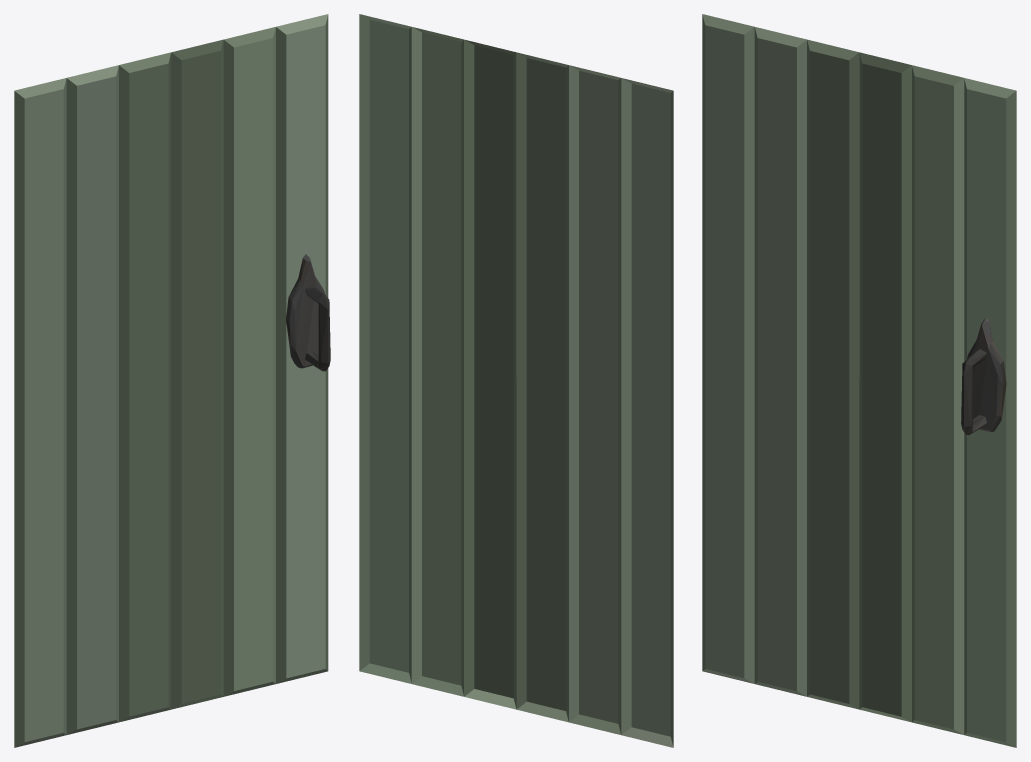
The model's file is Door_2.fbx.
3 renders of one model, left to right at view 1: azimuth 30°, elevation 25°; view 2: azimuth 150°, elevation 25°; view 3: azimuth 330°, elevation 25°, orthographic.
Parts seen in each view (by area): view 1: DoorB.002, DoorB, DoorB.001, DoorB.003; view 2: DoorB.002, DoorB.003, DoorB.001; view 3: DoorB.002, DoorB, DoorB.001, DoorB.003.
Boxes of the visible parts, bbox=[...] form: DoorB.002: bbox=[14, 15, 328, 747]; DoorB: bbox=[286, 254, 330, 371]; DoorB.001: bbox=[14, 14, 328, 98]; DoorB.003: bbox=[15, 669, 327, 747]; DoorB.002: bbox=[359, 14, 673, 747]; DoorB.003: bbox=[360, 663, 673, 747]; DoorB.001: bbox=[360, 14, 672, 92]; DoorB.002: bbox=[702, 14, 1016, 747]; DoorB: bbox=[961, 318, 1006, 434]; DoorB.001: bbox=[702, 14, 1015, 98]; DoorB.003: bbox=[703, 669, 1015, 747].
Bounding box in the file's own units: 120 × 240 × 17.22.
